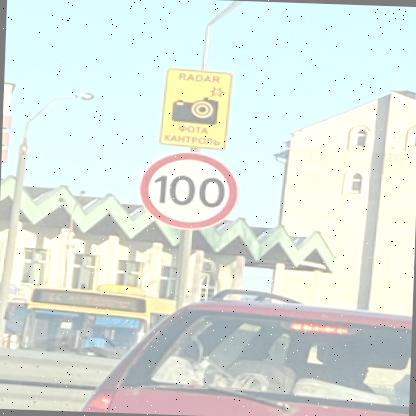speedlimit: (136, 150, 238, 228)
